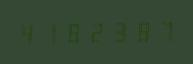eight: (61, 20, 82, 44), (127, 19, 148, 43)
four: (17, 21, 38, 45)
one: (39, 20, 60, 44)
seven: (149, 19, 170, 42)
three: (105, 19, 126, 43)
two: (83, 20, 104, 43)
